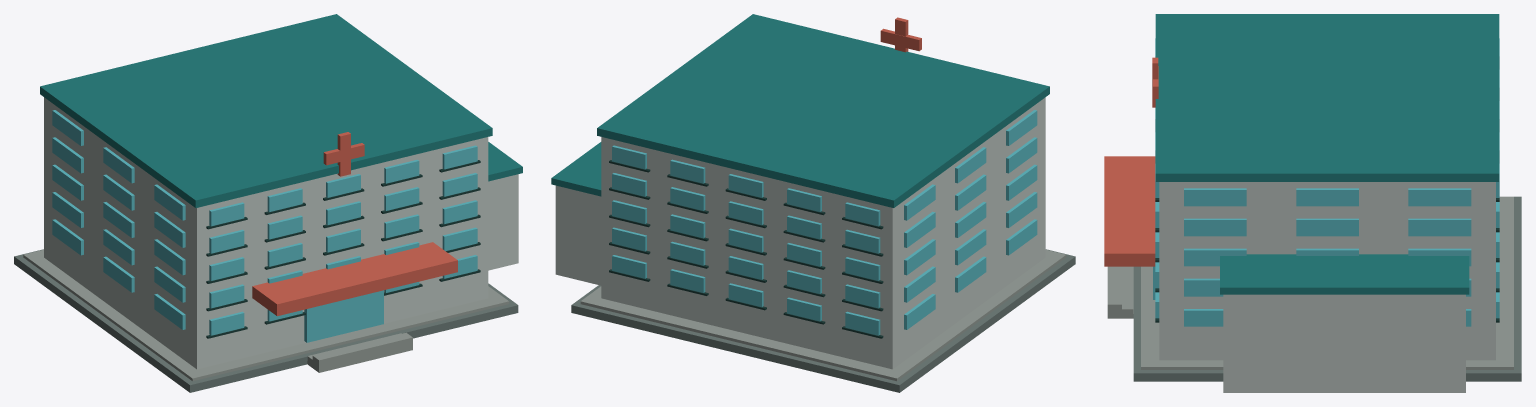
File: hospital_lv2.glb
The picture shows the model from 3 angles, left to right: view 1: azimuth 30°, elevation 25°; view 2: azimuth 150°, elevation 25°; view 3: azimuth 270°, elevation 25°; orthographic projection. The views are drawn at different scales.
Visible parts, largest first — view 1: rough, glossy; view 2: rough, glossy; view 3: rough, glossy.
Boxes of the visible parts, x1,y1,x2,y2 form: rough: (14,14,522,392); glossy: (52,110,477,342); rough: (551,14,1075,392); glossy: (612,110,1037,335); rough: (1104,14,1521,392); glossy: (1153,38,1499,326).
Size of the model in its own units: 11.1 by 6.03 by 9.78.
